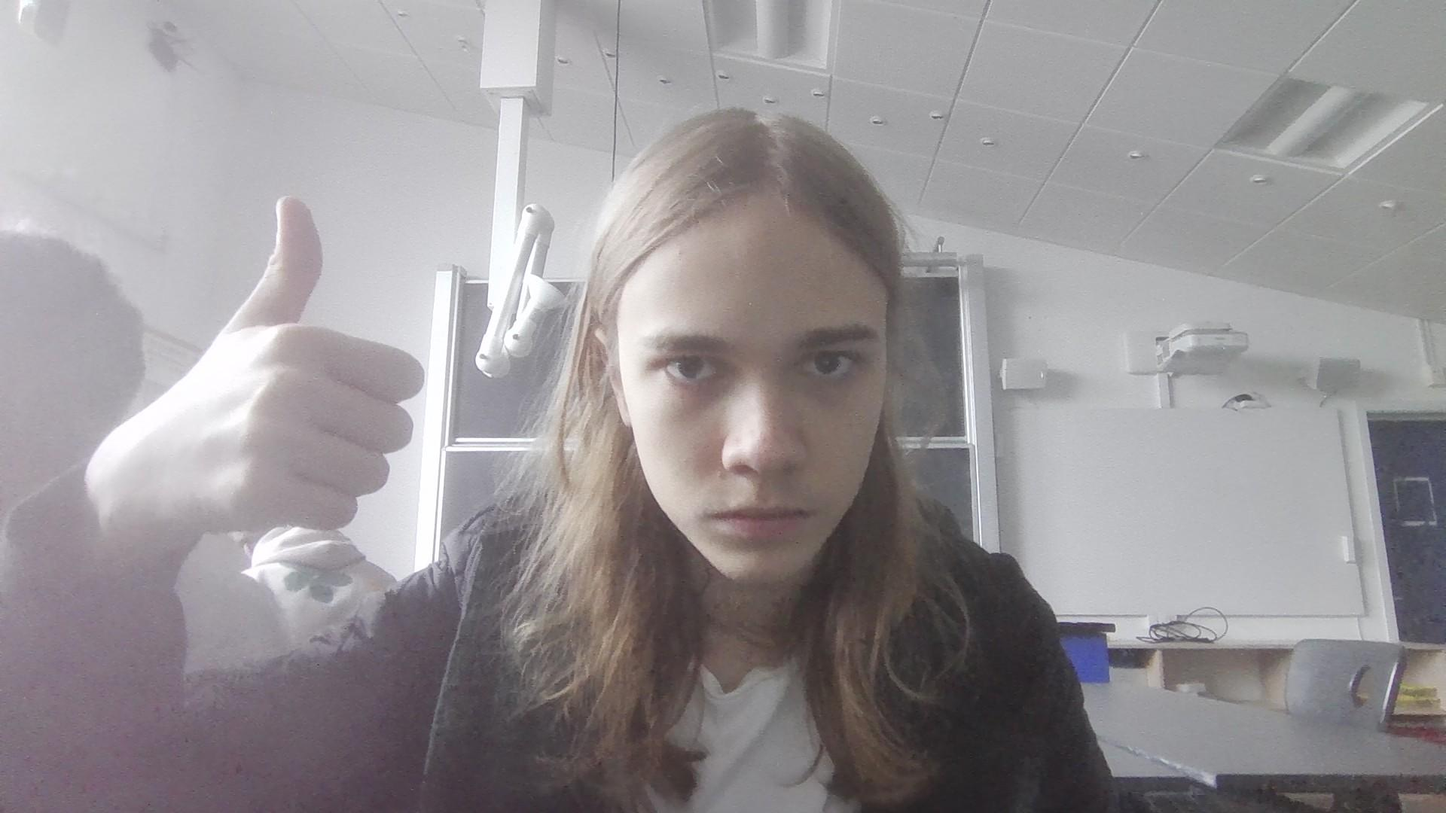thumbs up: (147, 193, 429, 561)
